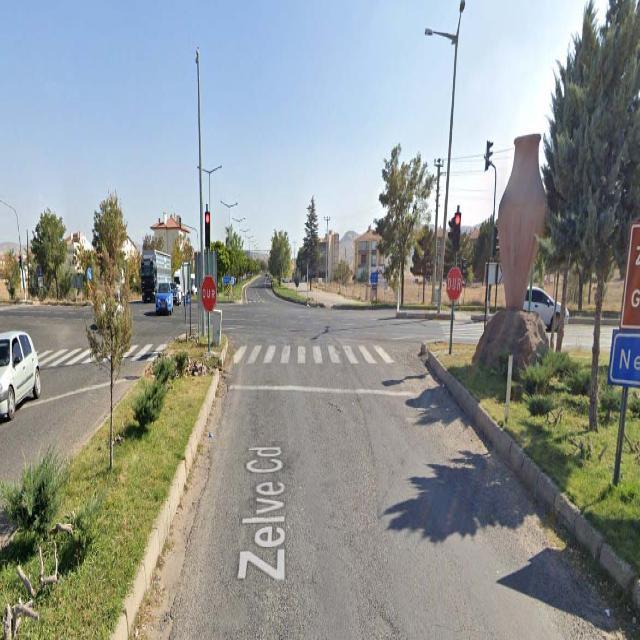dur: (446, 266, 462, 301), (201, 277, 216, 312)
kirmizi: (454, 213, 460, 249), (204, 212, 210, 246)
